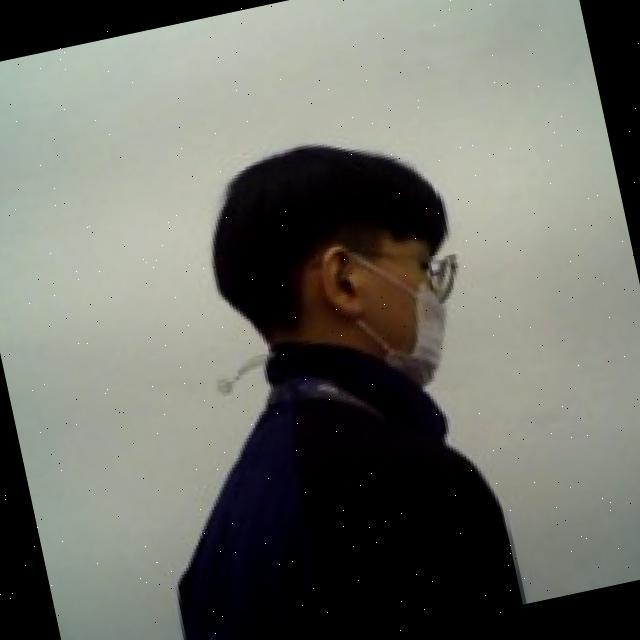mask: (320, 219, 494, 412)
no_gloves: (184, 113, 467, 350)
